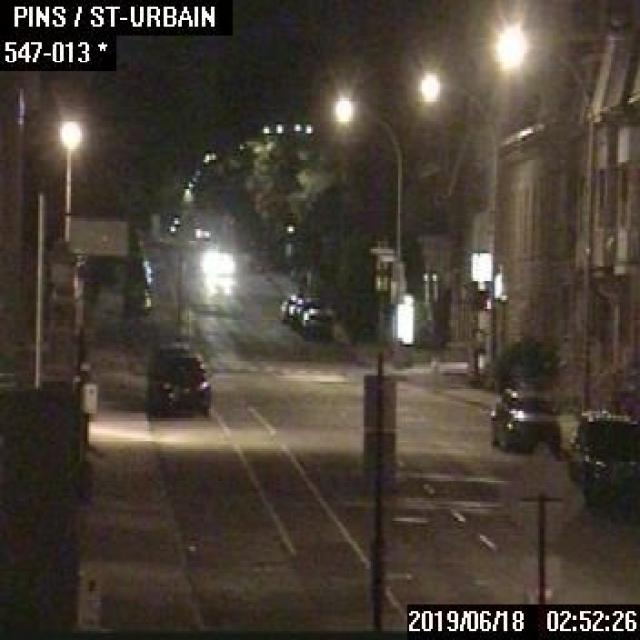vehicle: (564, 406, 638, 516), (487, 384, 560, 456), (145, 344, 209, 416), (302, 301, 333, 332), (288, 296, 314, 326), (278, 291, 300, 320)
